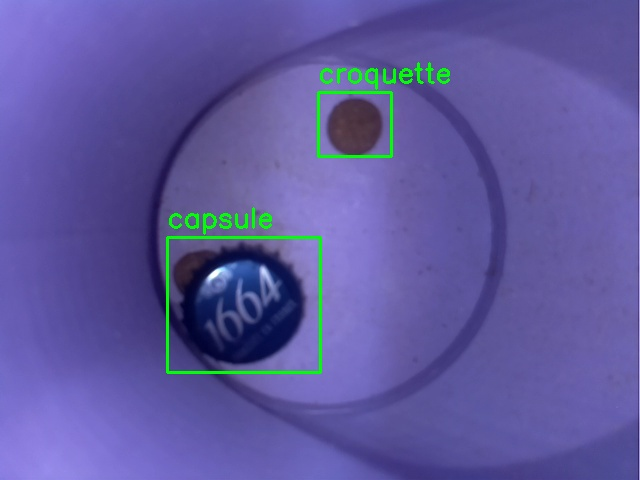capsule: (167, 237, 320, 372)
croquette: (318, 92, 391, 156)
